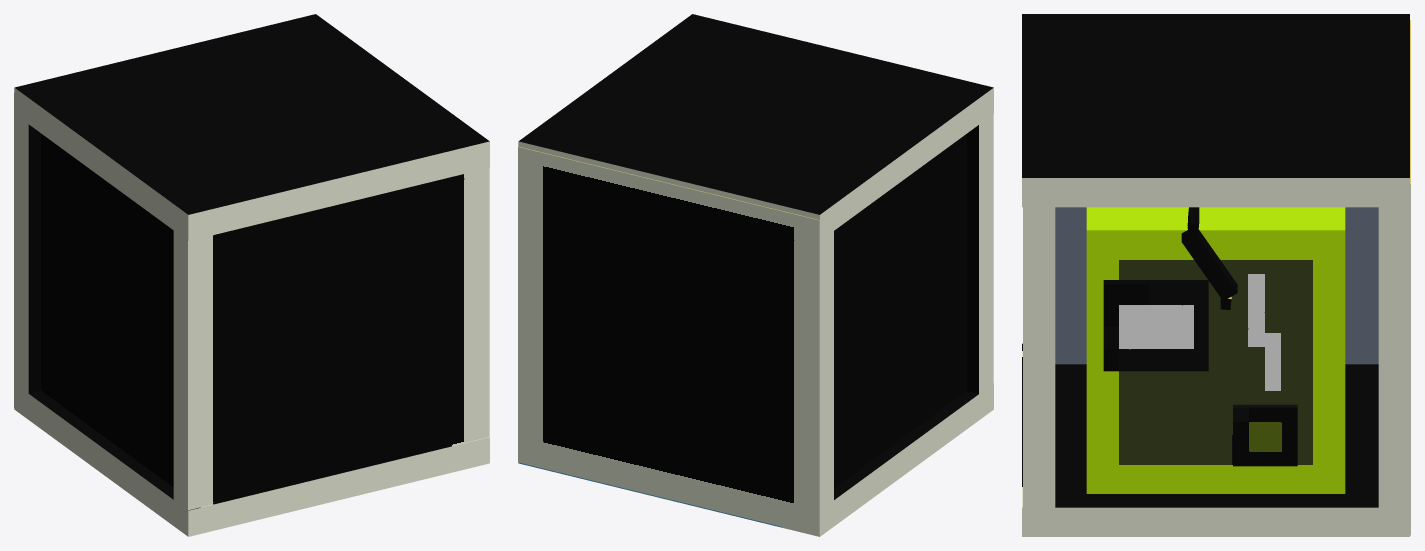
Rendered from generator.glb.
3 renders of one model, left to right at view 1: azimuth 30°, elevation 25°; view 2: azimuth 150°, elevation 25°; view 3: azimuth 270°, elevation 25°, orthographic. The views are drawn at different scales.
Parts seen in each view (by area): view 1: cube (×5); view 2: cube (×5); view 3: cube (×9).
Boxes of the visible parts, left/top/right/bottom form: cube (×5): left=14, top=14, right=489, bottom=536; cube (×5): left=518, top=14, right=993, bottom=536; cube (×9): left=1022, top=14, right=1410, bottom=536.
Size of the model in its own units: 0.1898 by 0.1914 by 0.1879.
Materials: 2 (2 with a texture image).
